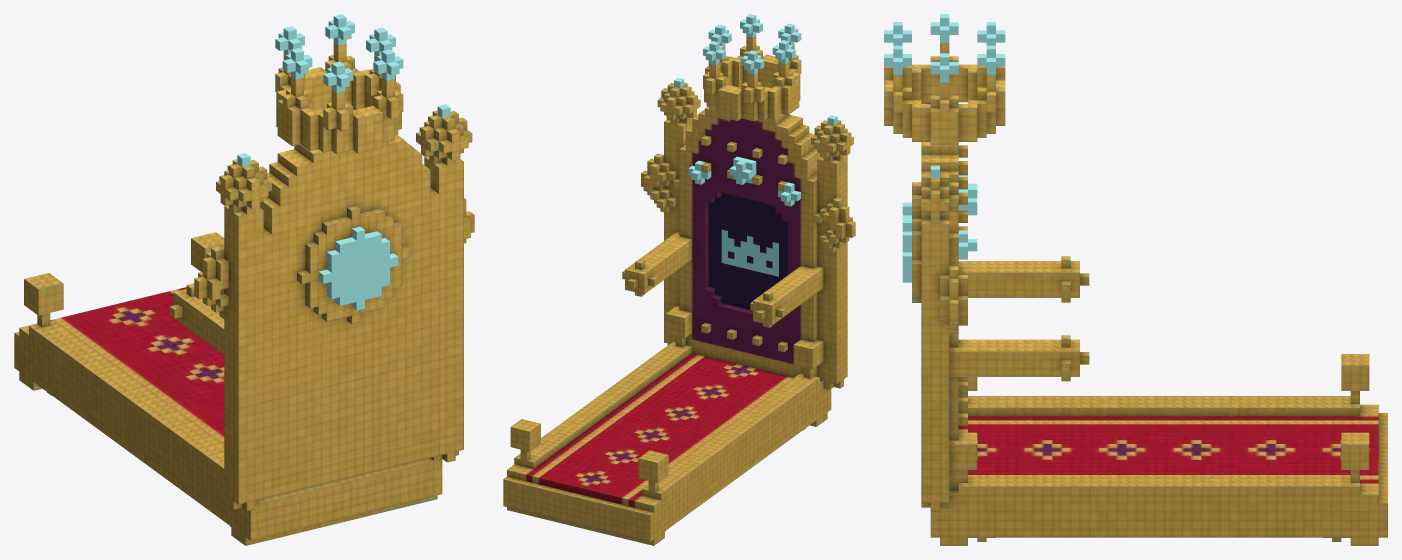
The model's file is royal-throne.glb.
3 renders of one model, left to right at view 1: azimuth 30°, elevation 25°; view 2: azimuth 150°, elevation 25°; view 3: azimuth 270°, elevation 25°, orthographic. The views are drawn at different scales.
Visible parts, largest first — view 1: Body.005, Glow.005; view 2: Body.005, Glow.005; view 3: Body.005, Glow.005.
Boxes of the visible parts, x1,y1,x2,y2 form: Body.005: (14,42,474,545); Glow.005: (237,14,450,310); Body.005: (503,36,855,545); Glow.005: (674,14,837,276); Body.005: (884,43,1387,545); Glow.005: (884,14,1005,282).
Bounding box in the file's own units: 6.6 × 11 × 10.8.
Materials: 2 (1 with a texture image).
